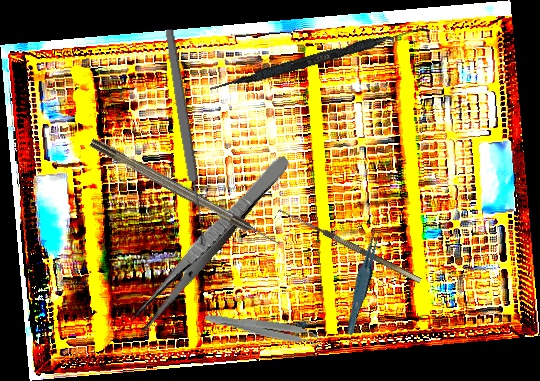Dressing Forceps: (126, 148, 294, 336)
Hook Surgical: (89, 136, 282, 250), (273, 206, 423, 291)
Spatula Surgical: (209, 19, 429, 98)
Surgical Spoon: (162, 26, 210, 249)
Tissue Forceps: (338, 224, 390, 336), (203, 309, 325, 351)
